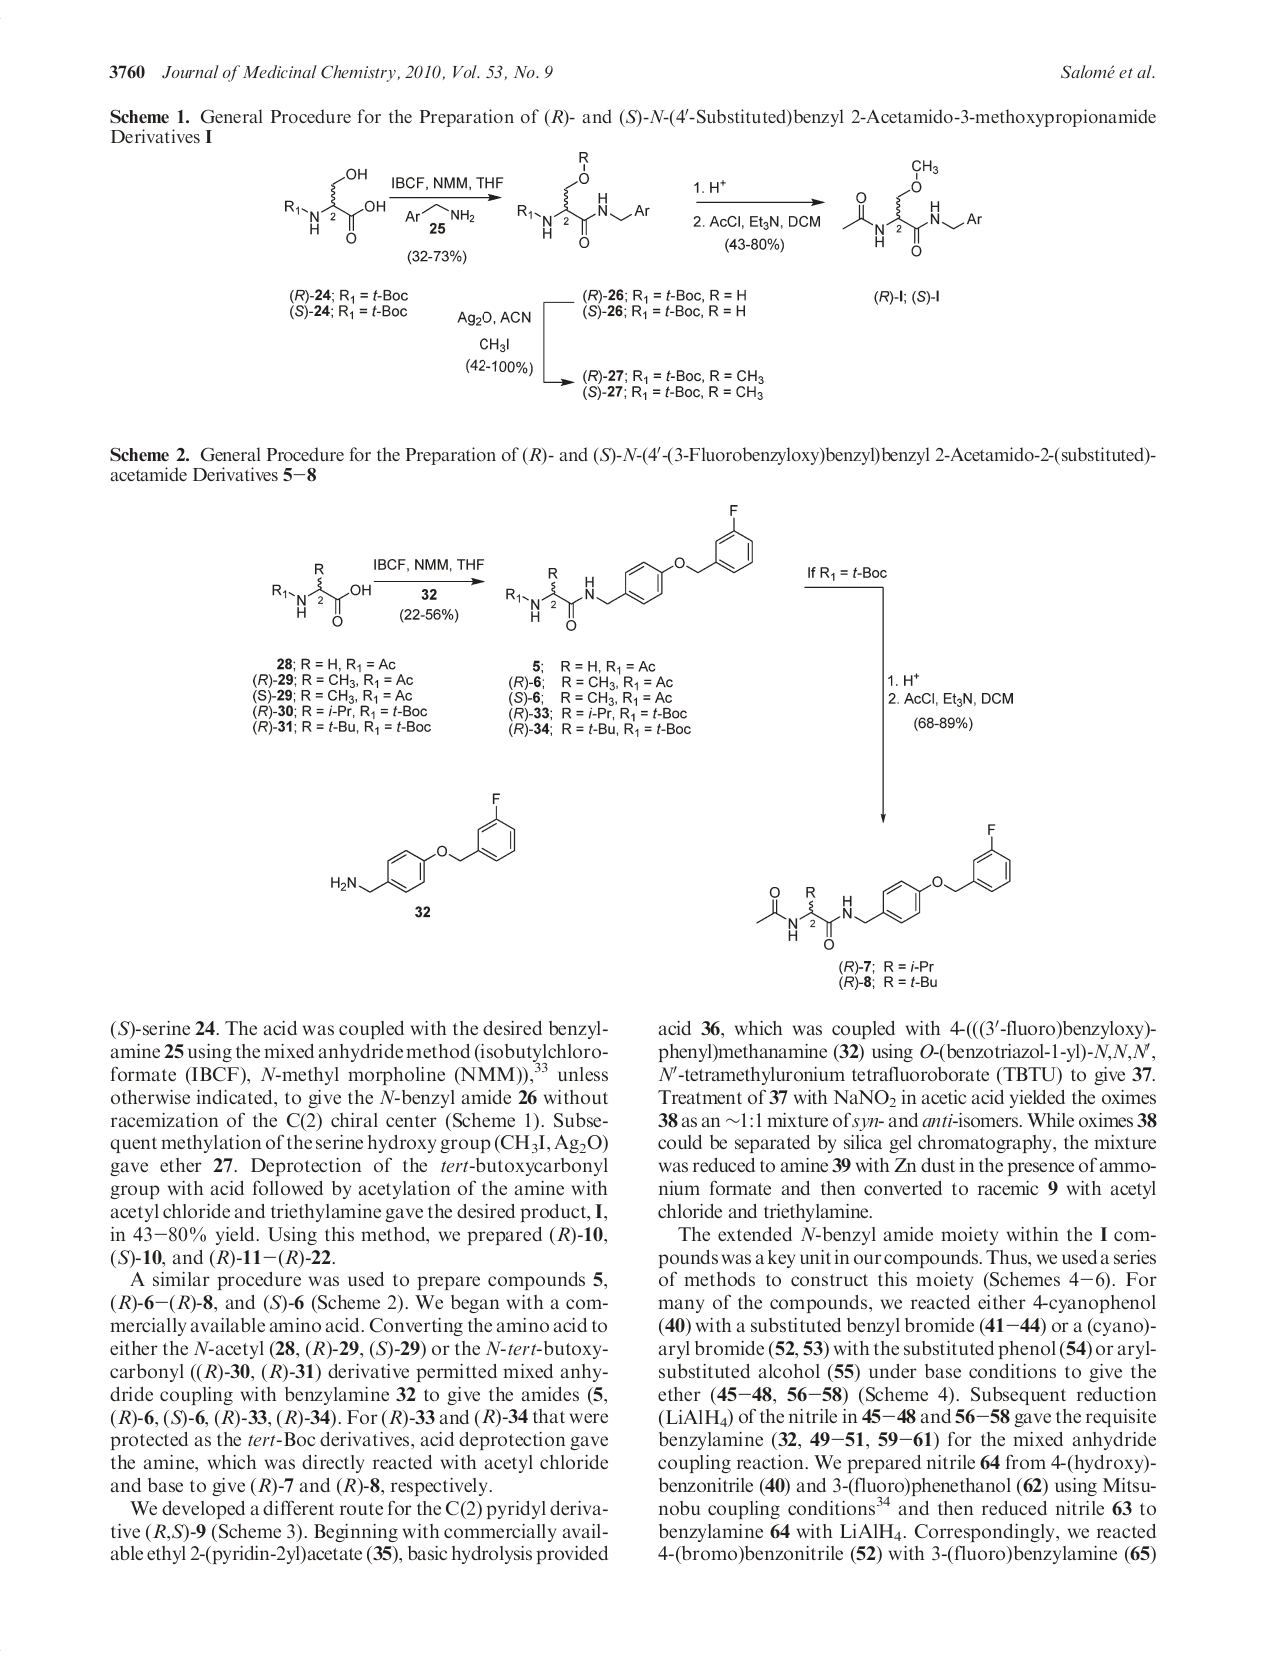exist_molecular: (751, 821, 1023, 954), (501, 501, 761, 630), (320, 789, 523, 900), (278, 160, 481, 246), (840, 146, 989, 262), (520, 148, 664, 253), (269, 555, 376, 629)
